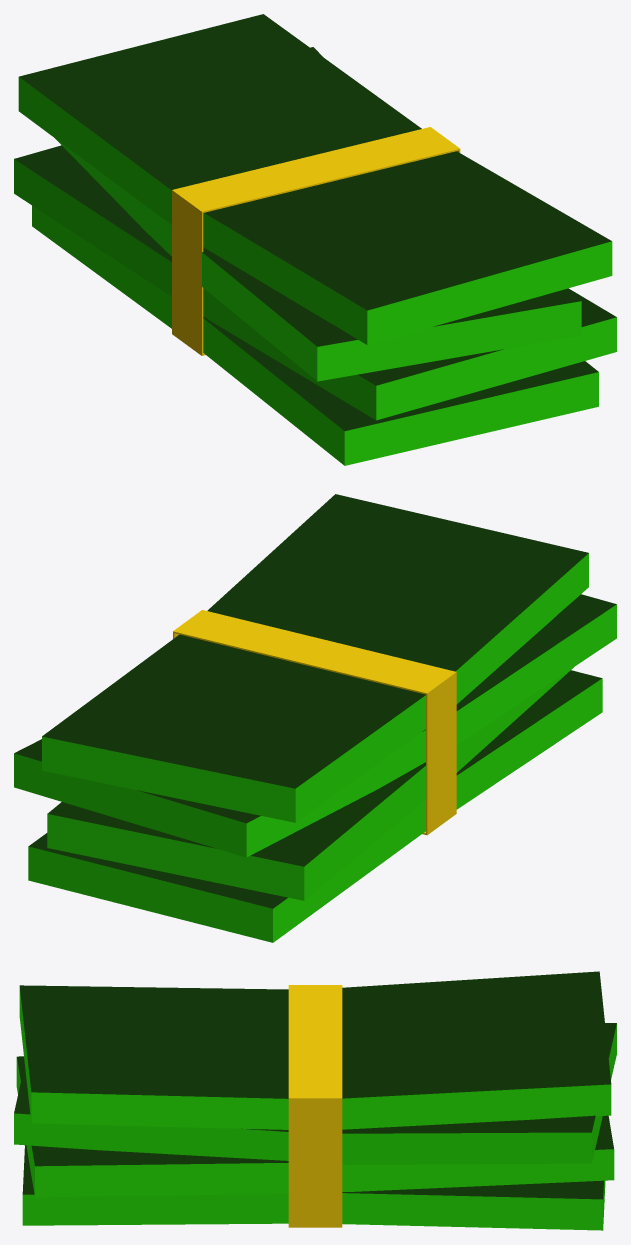
Rendered from dollar.fbx.
The picture shows the model from 3 angles, top to bottom: view 1: azimuth 30°, elevation 25°; view 2: azimuth 150°, elevation 25°; view 3: azimuth 270°, elevation 25°; orthographic projection. The views are drawn at different scales.
Visible parts, largest first — view 1: Cube, Cube.004; view 2: Cube, Cube.004; view 3: Cube, Cube.004.
Part boxes in pixels (x1,y1,x2,y2): Cube: [14, 14, 616, 465]; Cube.004: [172, 127, 460, 355]; Cube: [14, 494, 616, 942]; Cube.004: [173, 610, 456, 835]; Cube: [14, 971, 616, 1230]; Cube.004: [288, 985, 342, 1227].
Bounding box in the file's own units: 242 × 120 × 463.
